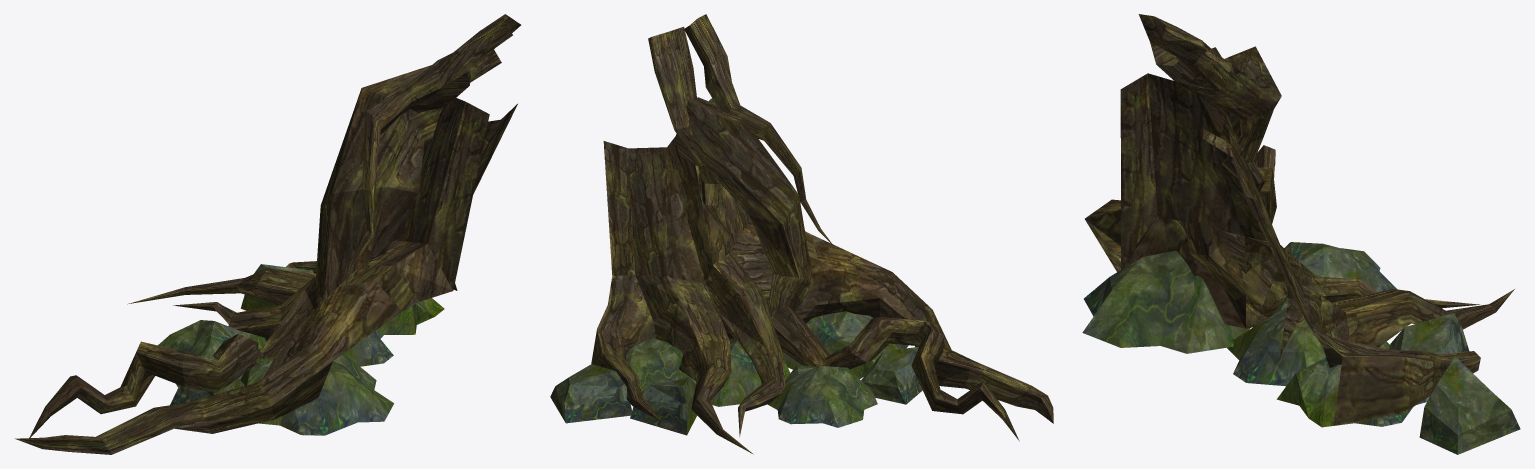
Rendered from BossWood1.fbx.
The picture shows the model from 3 angles, left to right: view 1: azimuth 30°, elevation 25°; view 2: azimuth 150°, elevation 25°; view 3: azimuth 270°, elevation 25°; orthographic projection. The views are drawn at different scales.
Parts seen in each view (by area): view 1: BossWood1; view 2: BossWood1; view 3: BossWood1.
Boxes of the visible parts, bbox=[...] form: BossWood1: bbox=[15, 14, 520, 454]; BossWood1: bbox=[550, 14, 1053, 454]; BossWood1: bbox=[1082, 14, 1520, 454].
Bounding box in the file's own units: 145 × 95.2 × 91.03.
